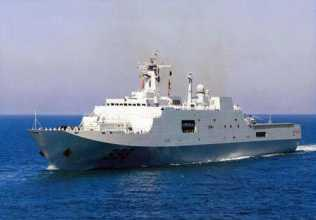warship: (26, 52, 300, 170)
